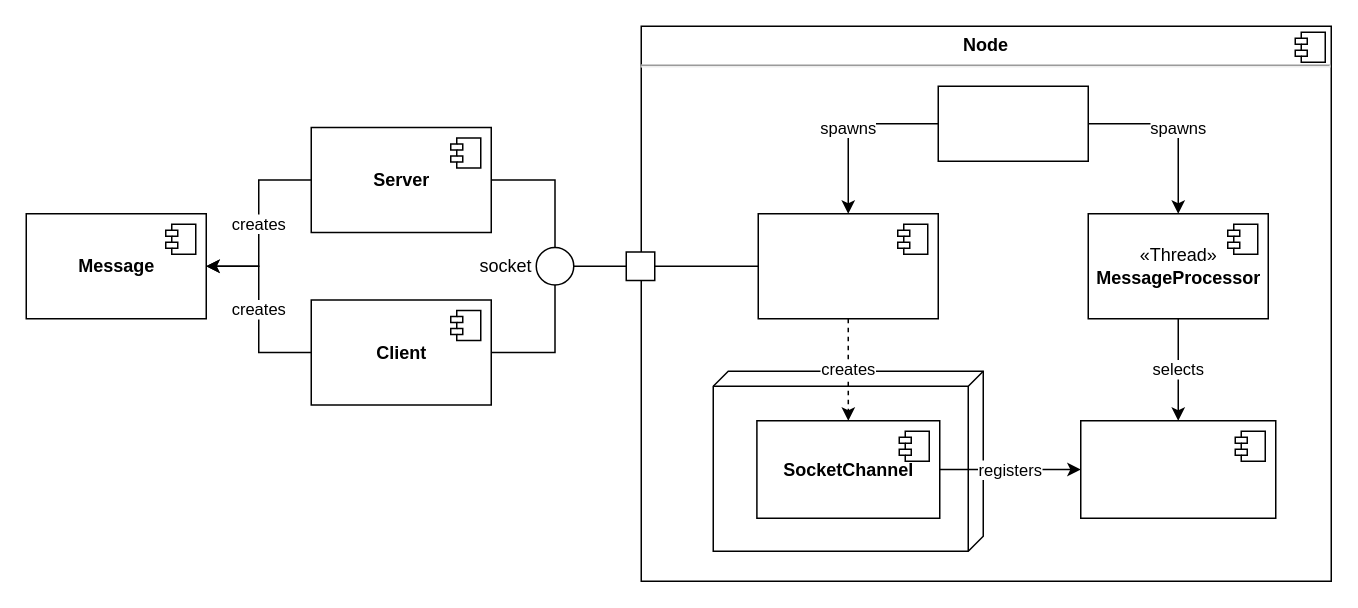
The diagram is 1358 pixels wide and 608 high, and some of its shapes have lost their labels. Each missing label, with the centre of its shape:
Selector: the point at 1177,468
start(): the point at 1012,123
«Thread» SocketAcceptor: the point at 847,265
